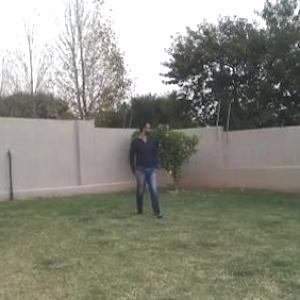follow: (135, 118, 161, 217)
